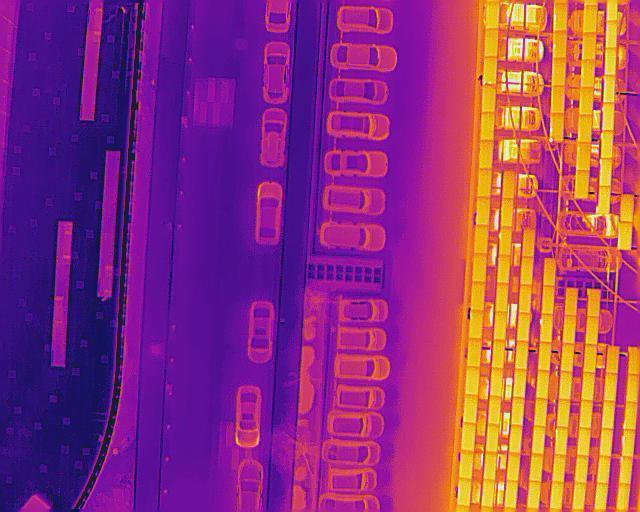Cell: (548, 113, 563, 142), (553, 31, 566, 58)
Cell-Multi: (483, 57, 496, 86)
No-Anomaly: (594, 482, 609, 510), (604, 372, 618, 401), (474, 225, 488, 254), (529, 453, 543, 482), (599, 427, 613, 456), (602, 400, 616, 429), (605, 346, 619, 374), (538, 342, 552, 370), (527, 481, 541, 509), (550, 481, 564, 509), (520, 257, 534, 285), (472, 253, 486, 281), (575, 170, 589, 198), (480, 113, 494, 141), (575, 455, 589, 483), (624, 402, 638, 430), (507, 452, 520, 482), (616, 483, 630, 510), (618, 223, 632, 250), (619, 456, 633, 483), (583, 5, 597, 32), (531, 426, 545, 453), (464, 395, 477, 424), (560, 343, 573, 372), (467, 339, 480, 368), (519, 285, 532, 314), (495, 283, 508, 312), (471, 282, 484, 311), (478, 168, 491, 197), (577, 428, 590, 457), (486, 424, 499, 453), (511, 397, 524, 425), (626, 375, 639, 403), (559, 372, 572, 400), (536, 371, 549, 399), (572, 483, 586, 509), (584, 344, 597, 372), (585, 316, 598, 344), (563, 315, 576, 343), (457, 478, 470, 506), (565, 287, 578, 315), (542, 286, 555, 314), (521, 229, 534, 257), (620, 195, 633, 223), (576, 142, 589, 170), (479, 141, 492, 169), (578, 115, 591, 143), (580, 87, 593, 115), (551, 85, 564, 113), (597, 456, 610, 484), (552, 454, 565, 482), (581, 59, 594, 87), (552, 58, 565, 86), (484, 29, 497, 57), (555, 427, 568, 455), (509, 425, 522, 453), (580, 400, 593, 428), (557, 399, 570, 427), (534, 398, 547, 425), (582, 373, 595, 400), (517, 313, 530, 340), (543, 259, 556, 286), (484, 453, 497, 480), (582, 32, 595, 59), (486, 3, 499, 30), (622, 429, 635, 456), (470, 310, 482, 339), (492, 339, 504, 368), (505, 481, 518, 507), (481, 480, 494, 506), (587, 290, 600, 316), (514, 369, 526, 397), (466, 367, 478, 395), (628, 346, 640, 374), (515, 341, 527, 369), (540, 314, 552, 342), (476, 197, 488, 225), (601, 130, 613, 158), (602, 103, 614, 131), (482, 85, 494, 113), (603, 75, 615, 103), (462, 423, 474, 451), (488, 397, 500, 424), (494, 312, 506, 339), (502, 171, 514, 198), (460, 451, 472, 478), (490, 368, 501, 397), (498, 255, 509, 284), (501, 198, 512, 227), (499, 228, 511, 254), (600, 158, 611, 186), (599, 186, 610, 213), (604, 48, 615, 75), (605, 21, 616, 48)
Unclassified: (553, 3, 567, 31)
